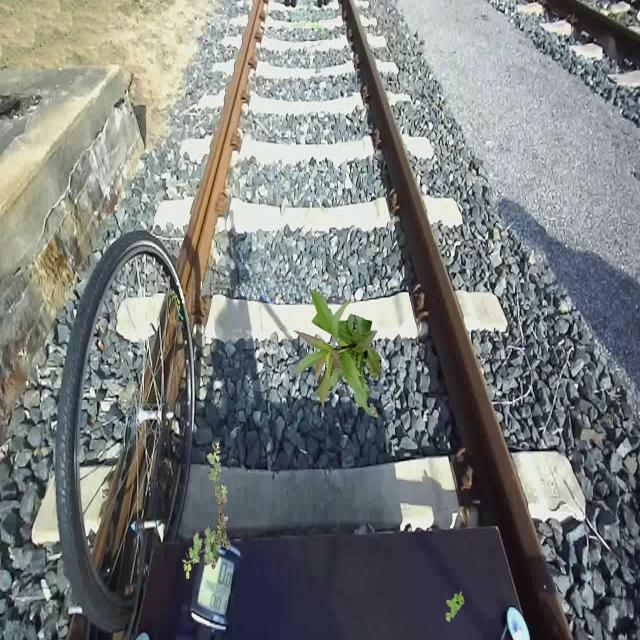Plant: (293, 289, 382, 419), (182, 441, 230, 579), (445, 590, 464, 622)
